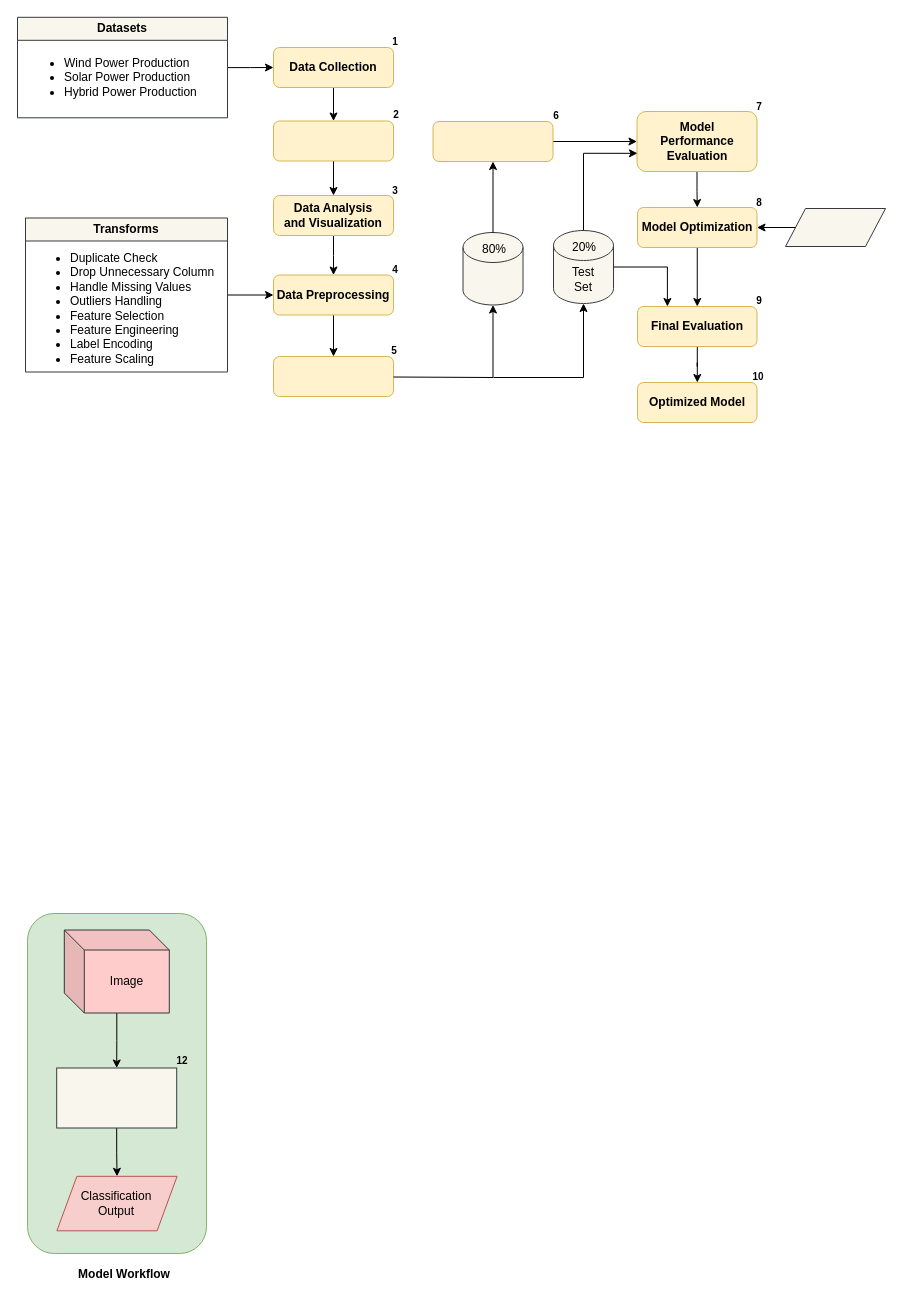
The diagram is 903 pixels wide and 1307 high, and some of its shapes have lost their labels. Each missing label, with the box of its shape:
Data Cleaning: (272, 120, 394, 161)
Dataset Split: (272, 356, 394, 396)
GridSearchCV: (784, 208, 886, 246)
Highest Performing Model: (56, 1067, 177, 1128)
Model Training: (432, 120, 553, 162)
Train Set: (462, 232, 523, 305)
